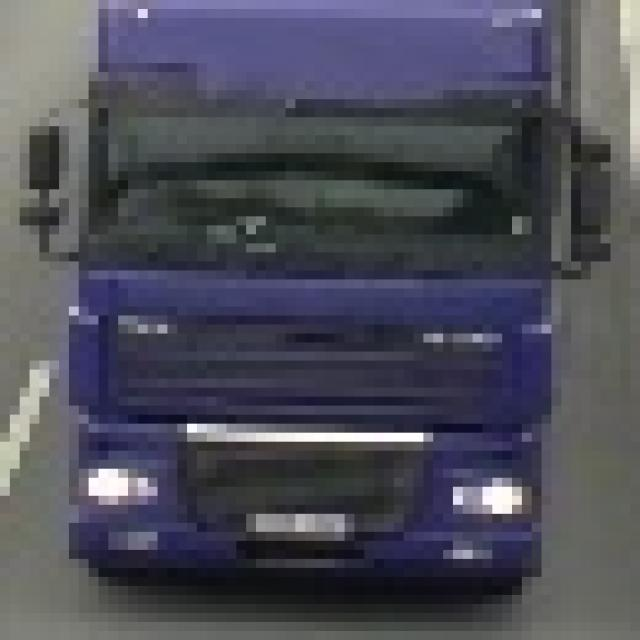TRUCK: (72, 0, 564, 604)
